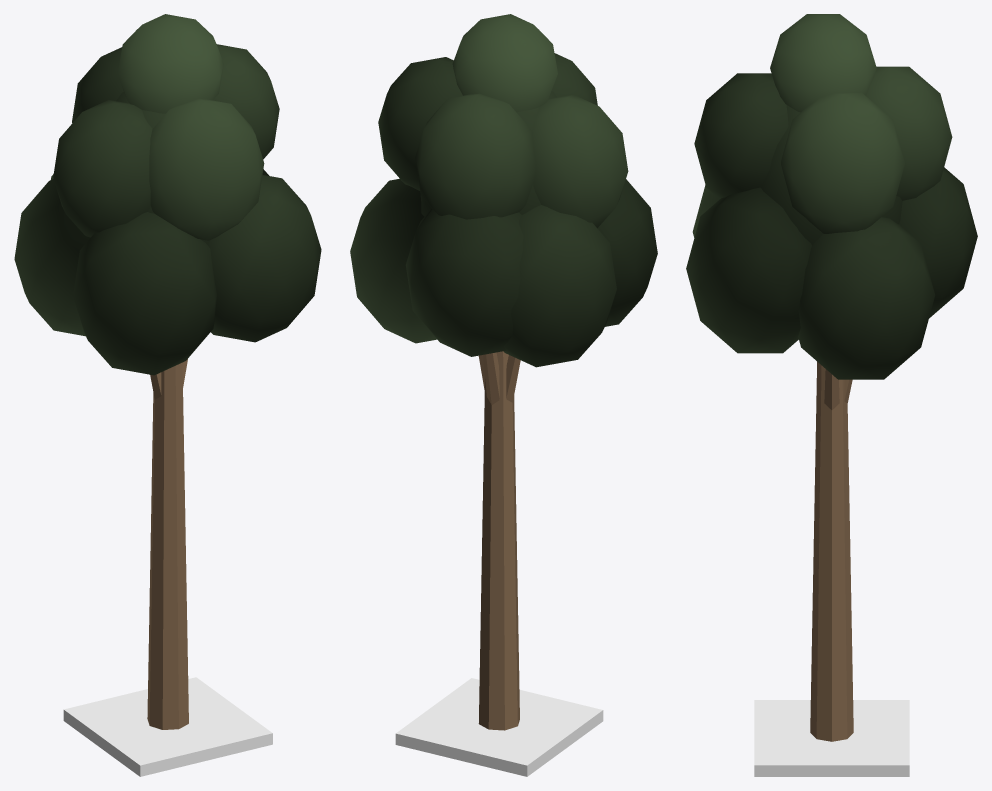
3 views of the same model, side by side, from view 1: azimuth 30°, elevation 25°; view 2: azimuth 150°, elevation 25°; view 3: azimuth 270°, elevation 25° (orthographic). The views are drawn at different scales.
Parts seen in each view (by area): view 1: 464; view 2: 464; view 3: 464.
Boxes of the visible parts, bbox=[...] form: 464: bbox=[14, 14, 321, 776]; 464: bbox=[350, 14, 657, 776]; 464: bbox=[686, 14, 977, 776].
Size of the model in its own units: 1.6 by 4.4 by 1.6.
